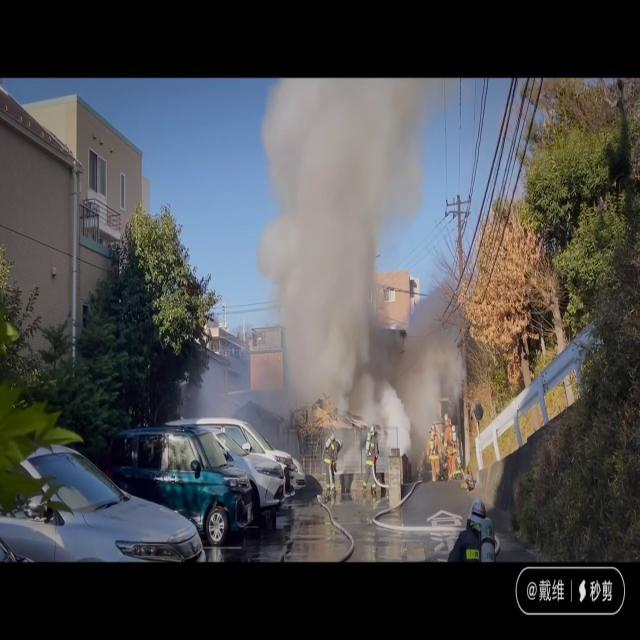Smoke: (208, 78, 454, 430)
